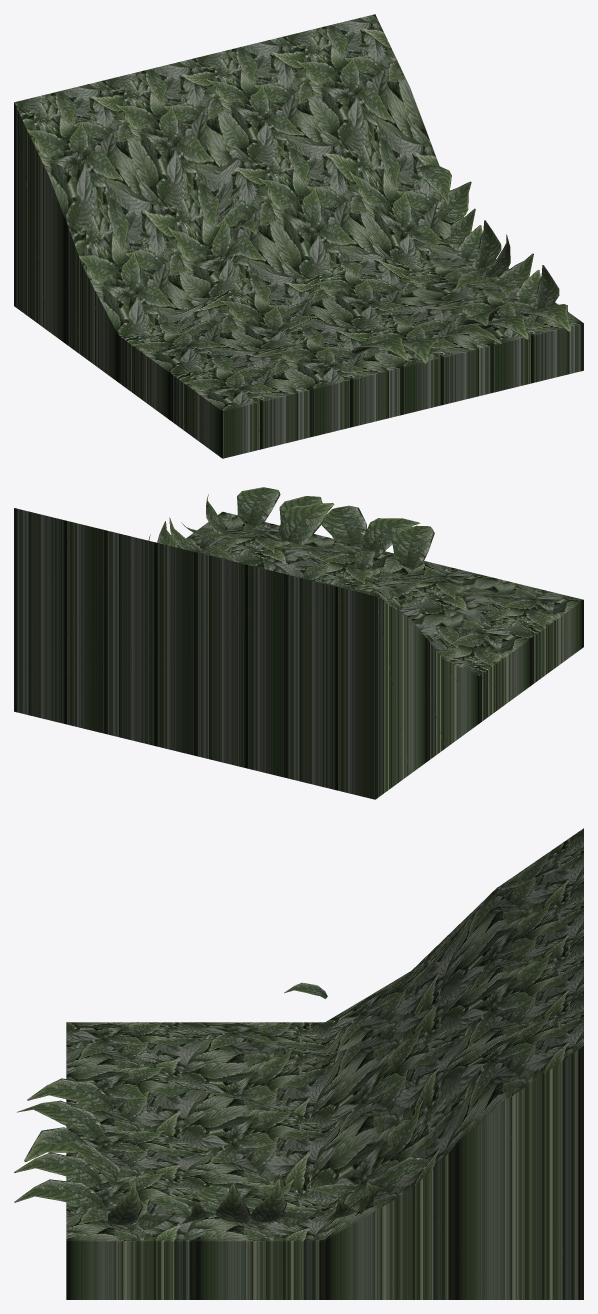
Rendered from PlantBase01Planter01.FBX.
The picture shows the model from 3 angles, top to bottom: view 1: azimuth 30°, elevation 25°; view 2: azimuth 150°, elevation 25°; view 3: azimuth 270°, elevation 25°; orthographic projection. The views are drawn at different scales.
Parts seen in each view (by area): view 1: PlantBase01Planter01; view 2: PlantBase01Planter01; view 3: PlantBase01Planter01.
Part boxes in pixels (x1,y1,x2,y2): PlantBase01Planter01: (14, 14, 583, 458); PlantBase01Planter01: (14, 487, 583, 799); PlantBase01Planter01: (14, 828, 583, 1299).
Bounding box in the file's own units: 4.09 × 2.16 × 4.4.
